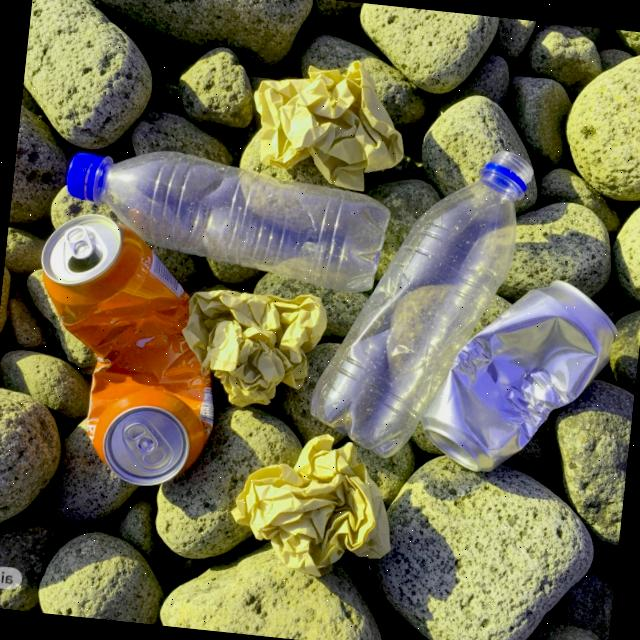aluminum: (16, 206, 238, 494), (414, 264, 624, 486)
paper: (228, 424, 398, 580), (244, 47, 413, 199), (172, 277, 330, 418)
plastic: (302, 132, 534, 472), (52, 140, 394, 298)
